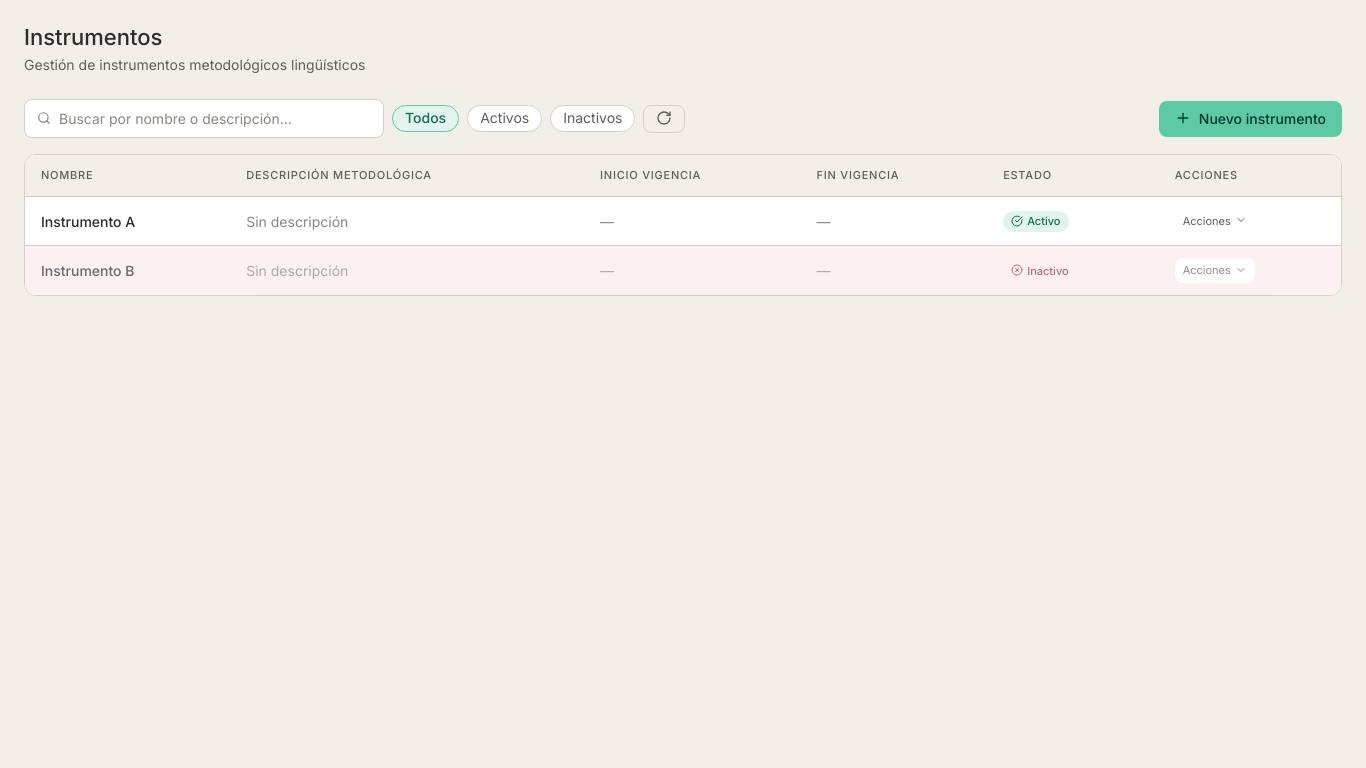
Scenario: GestionInstrumentos — validación start_date < end_date › bloquea el avance del wizard cuando end_date < start_date
Click the button "Nuevo instrumento" at coordinates (1250, 119), box x1=1159 y1=101 x2=1342 y2=137
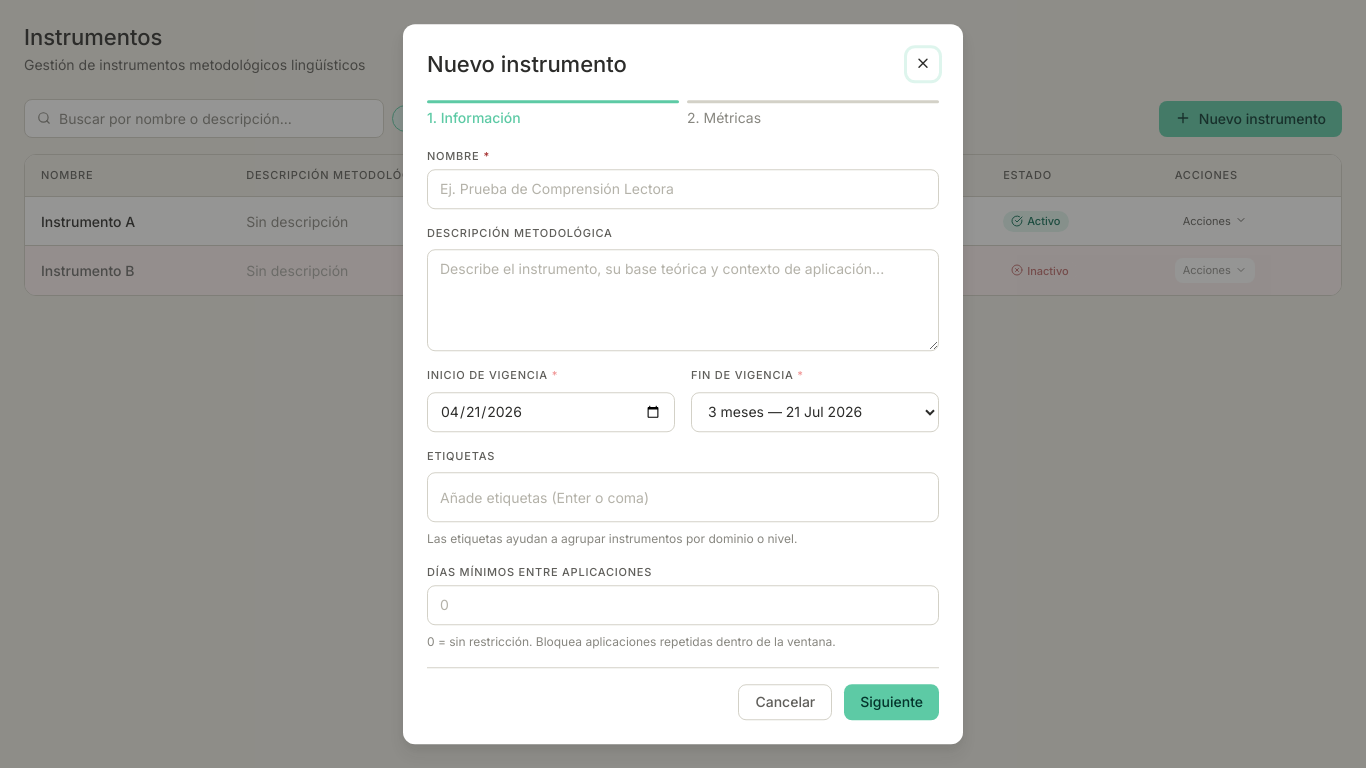
Check: the heading "Nuevo instrumento" is shown, box x1=427 y1=51 x2=627 y2=77
Type "Instrumento de prueba" into the field labelled "Nombre*" at coordinates (683, 189), box x1=427 y1=169 x2=939 y2=209
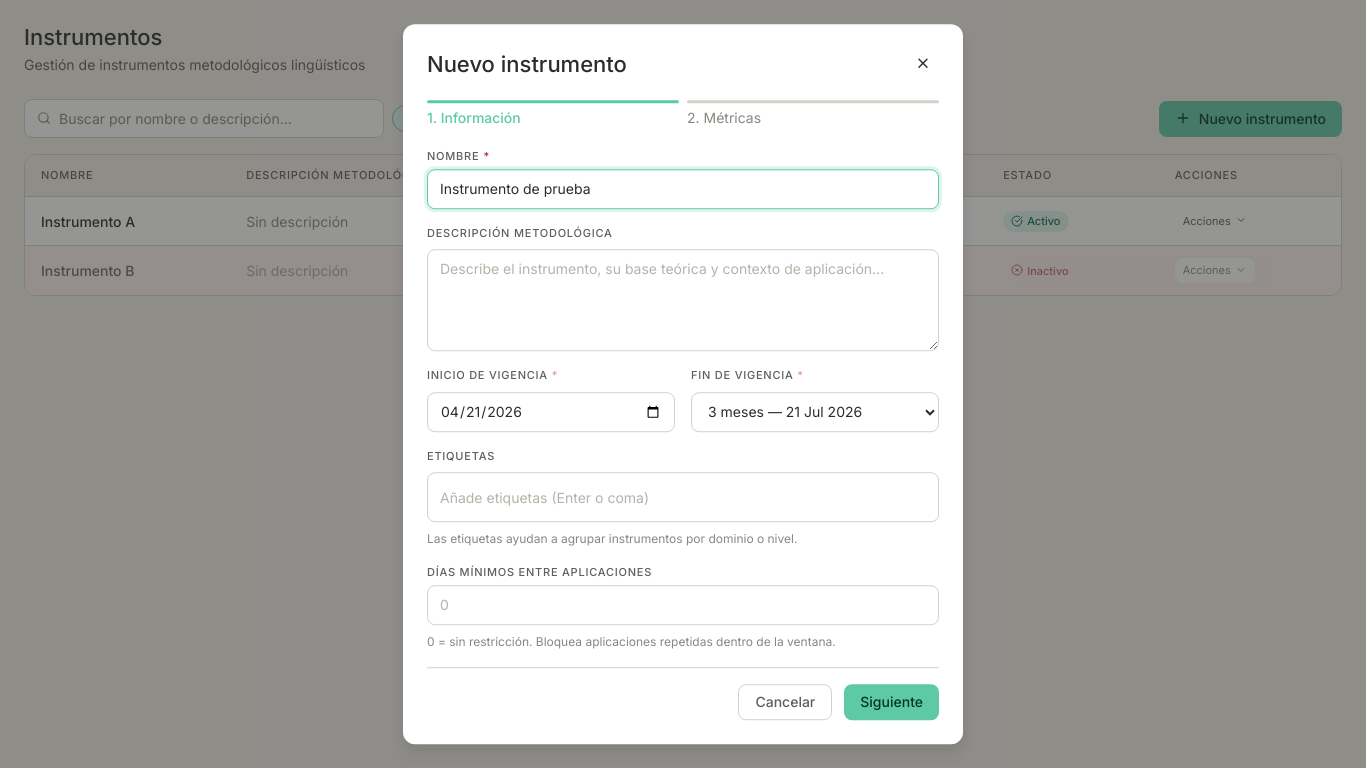
Select "Fecha personalizada" in the dropdown labelled "Fin de vigencia *" at coordinates (815, 412), box x1=691 y1=392 x2=939 y2=432
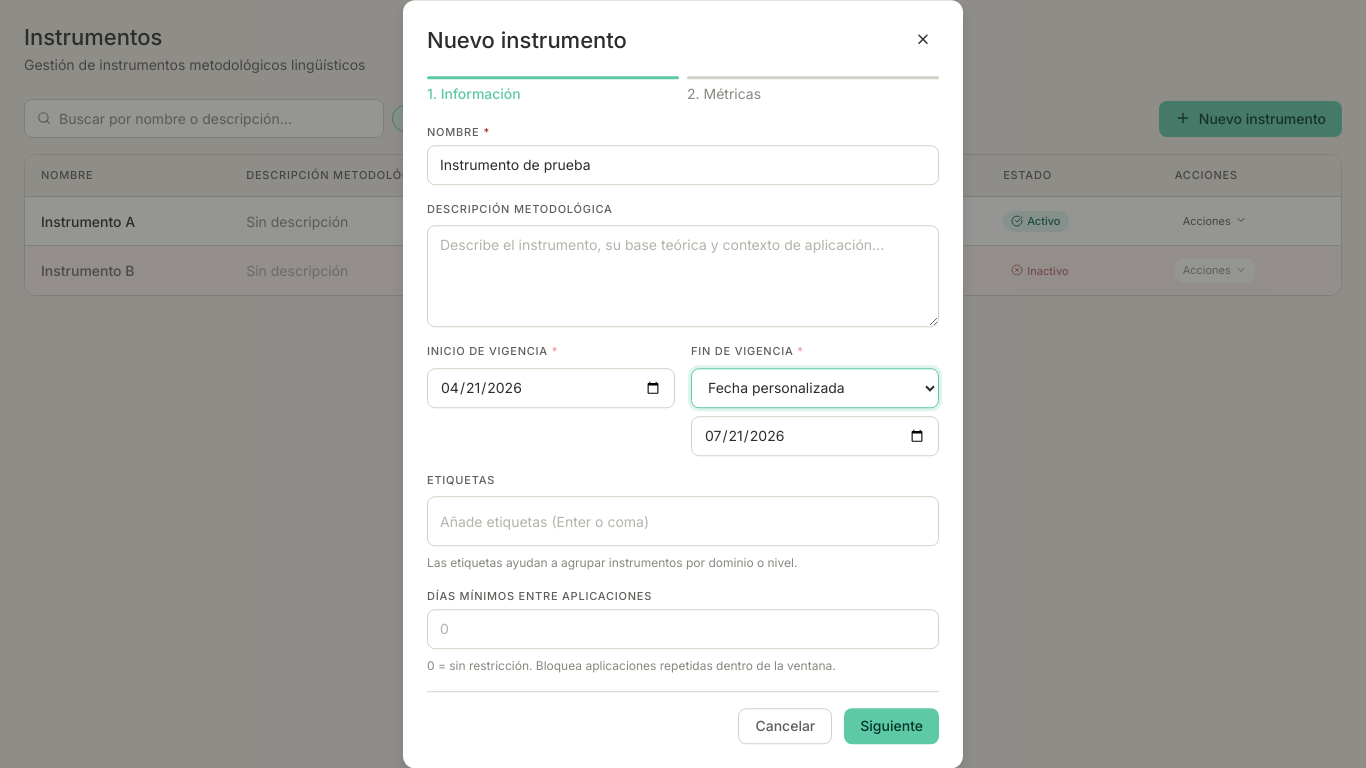
Type "2026-06-01" into the date field labelled "Inicio de vigencia *" at coordinates (551, 388), box x1=427 y1=368 x2=675 y2=408
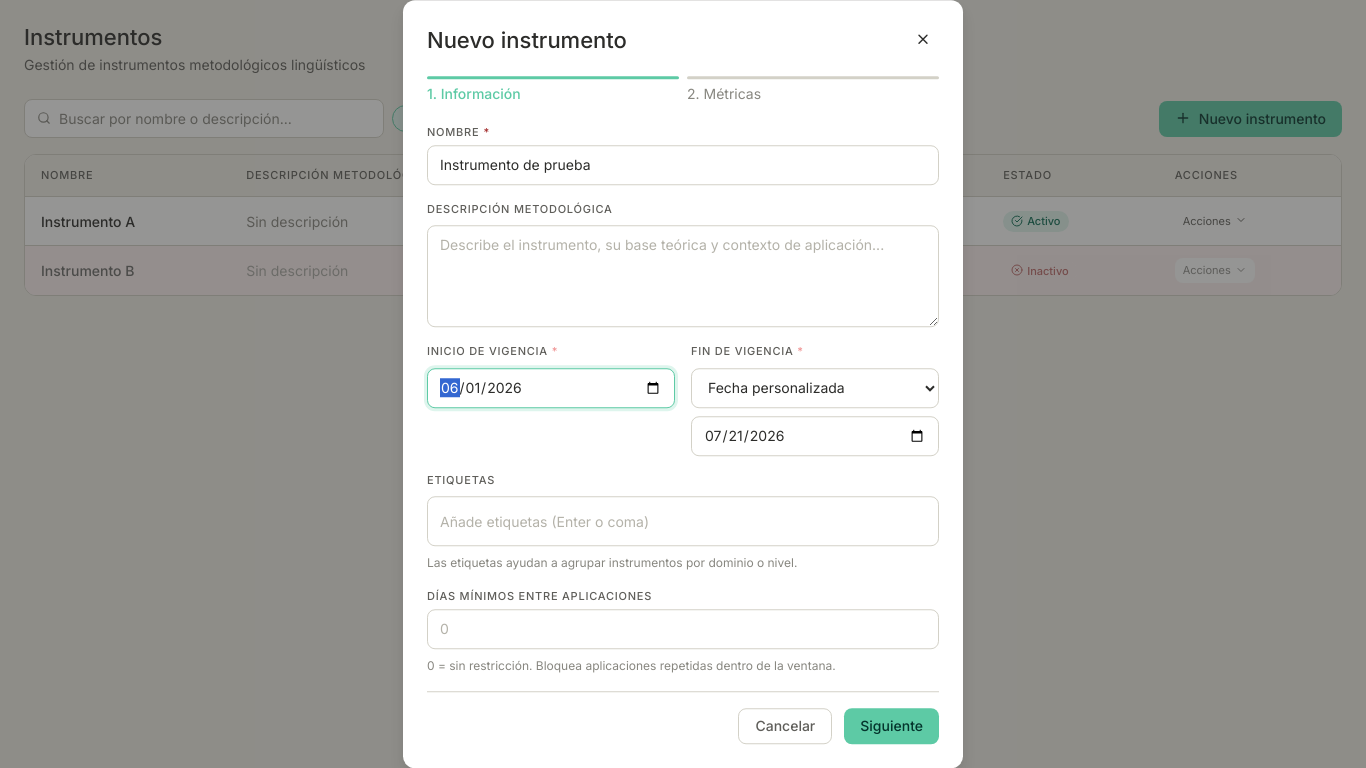
Type "2026-05-01" into the 2nd date field at coordinates (815, 436), box x1=691 y1=416 x2=939 y2=456
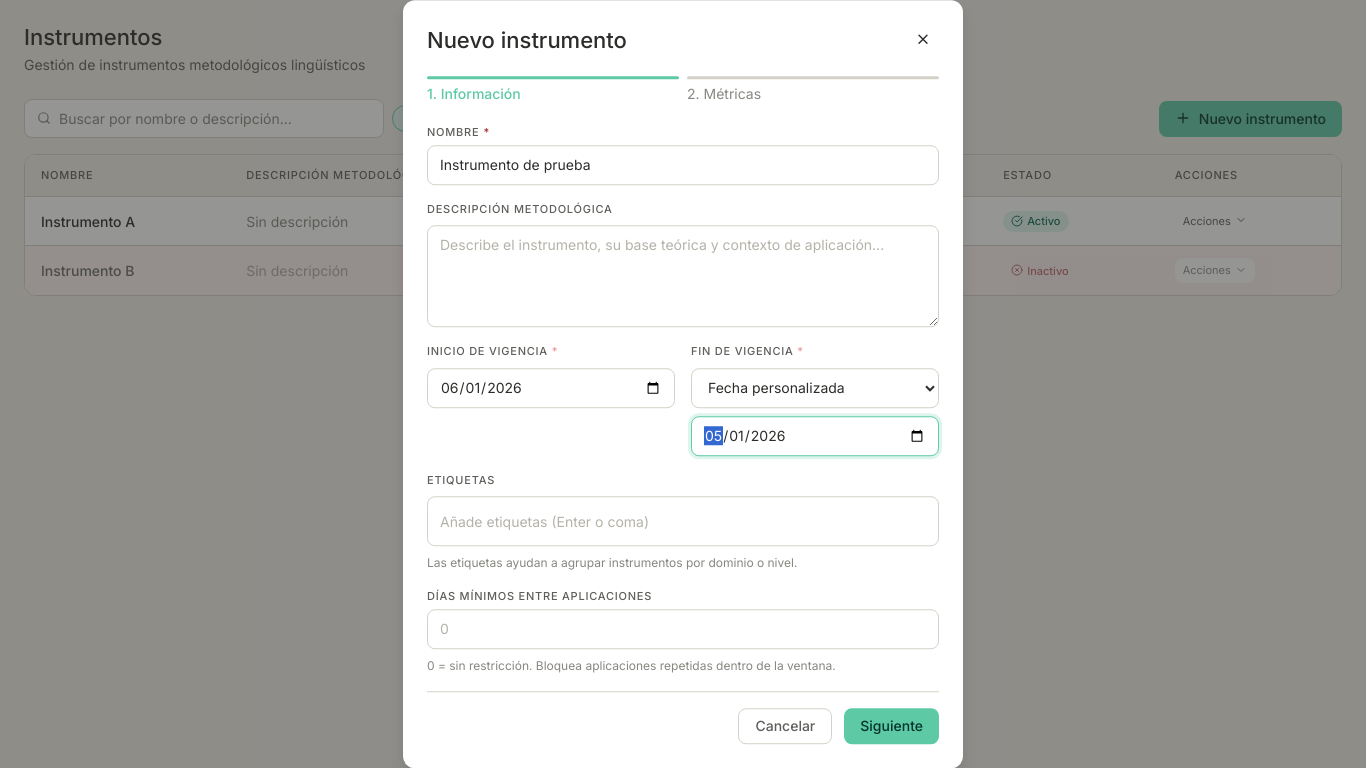
Click the button "Siguiente" at coordinates (892, 726), box x1=844 y1=708 x2=939 y2=744
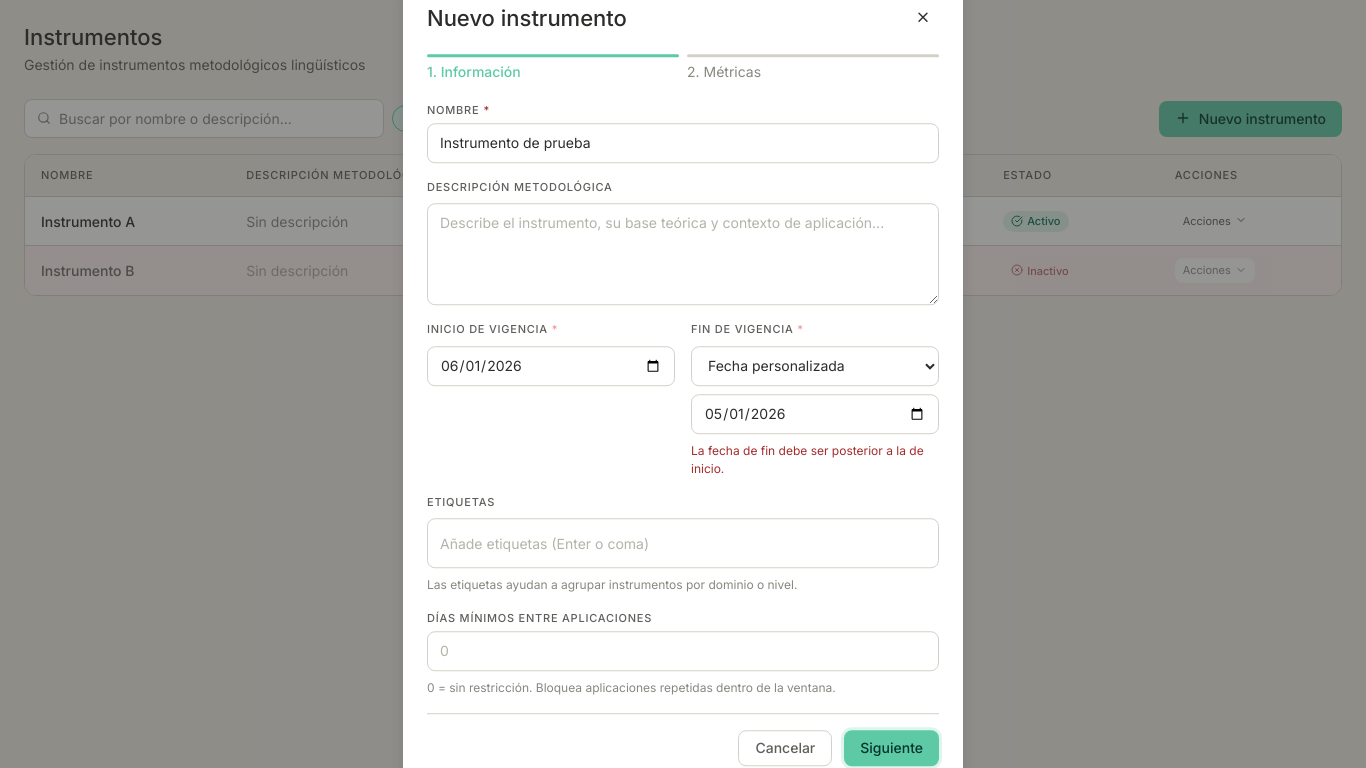
Check: the button "Siguiente" is shown, box x1=844 y1=730 x2=939 y2=766
Check: the text "La fecha de fin debe ser posterior a la de inicio." is shown, box x1=691 y1=442 x2=939 y2=478
